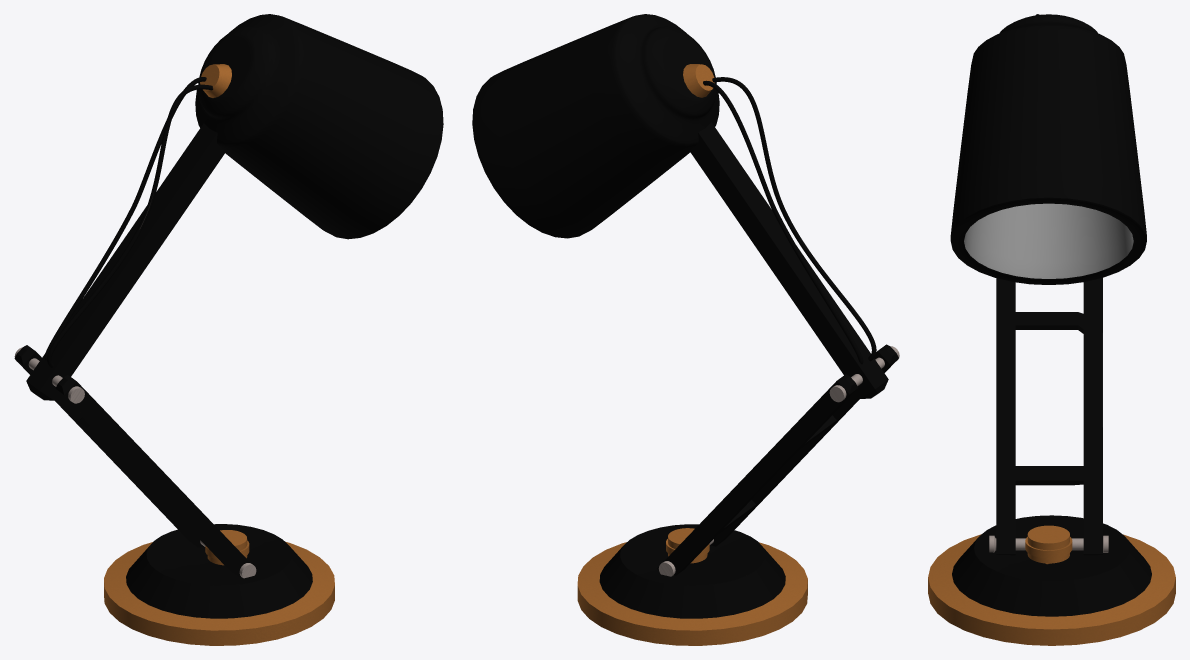
The model's file is Lamp.glb.
3 renders of one model, left to right at view 1: azimuth 30°, elevation 25°; view 2: azimuth 150°, elevation 25°; view 3: azimuth 270°, elevation 25°, orthographic. The views are drawn at different scales.
Parts seen in each view (by area): view 1: Cylinder.005_Baked; view 2: Cylinder.005_Baked; view 3: Cylinder.005_Baked.
Boxes of the visible parts, x1=… form: Cylinder.005_Baked: x1=14, y1=14, x2=443, y2=645; Cylinder.005_Baked: x1=472, y1=14, x2=899, y2=645; Cylinder.005_Baked: x1=928, y1=14, x2=1175, y2=645.
Bounding box in the file's own units: 1.96 × 2.68 × 0.9999.
1 material, 1 textured.
